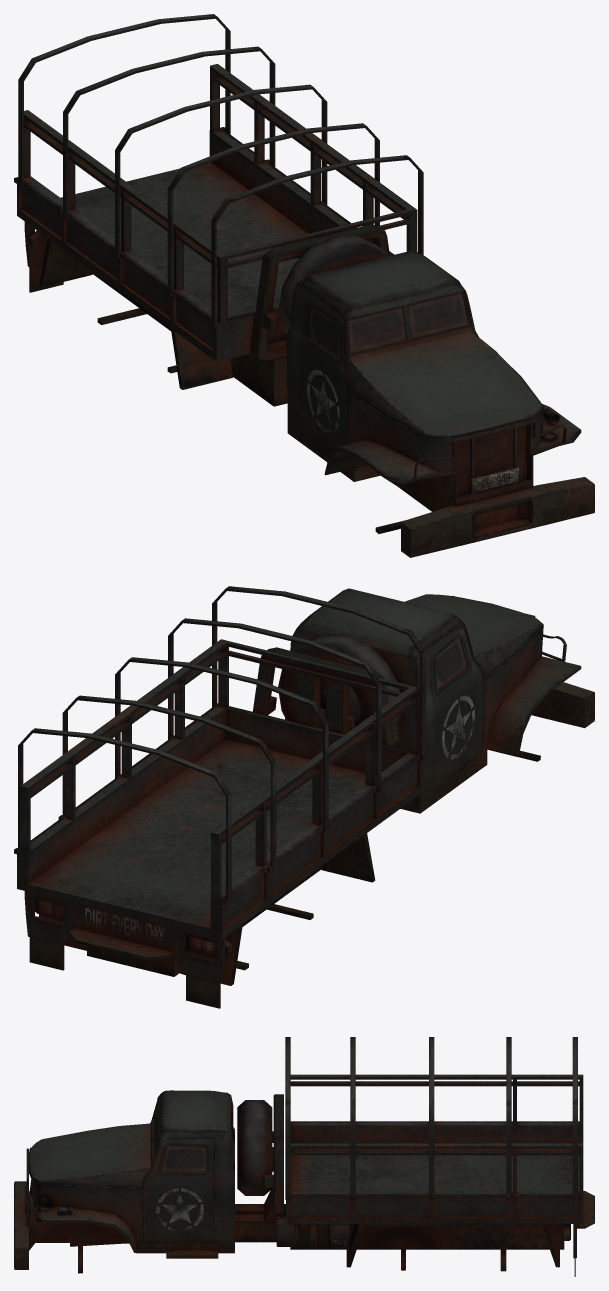
The model's file is TruckBody.FBX.
3 views of the same model, one above another, from view 1: azimuth 30°, elevation 25°; view 2: azimuth 150°, elevation 25°; view 3: azimuth 270°, elevation 25° (orthographic). The views are drawn at different scales.
Parts seen in each view (by area): view 1: TruckBody; view 2: TruckBody; view 3: TruckBody.
Boxes of the visible parts, x1,y1,x2,y2 form: TruckBody: (14,14,594,557); TruckBody: (14,586,594,1008); TruckBody: (14,1037,594,1276).
Size of the model in its own units: 35.77 by 39.53 by 115.
1 material, 1 textured.
